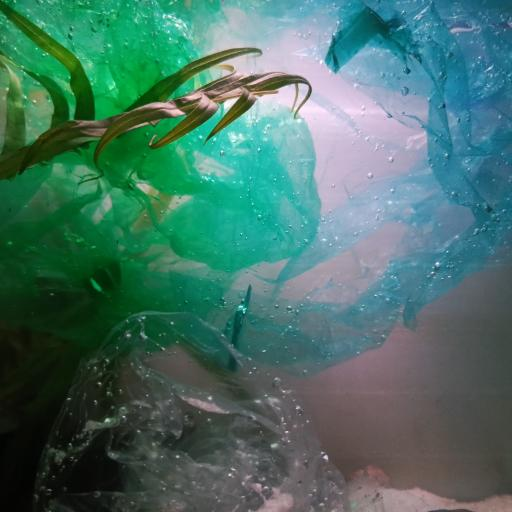plastic_bag: (214, 0, 512, 382), (0, 0, 319, 346), (33, 312, 350, 512)
